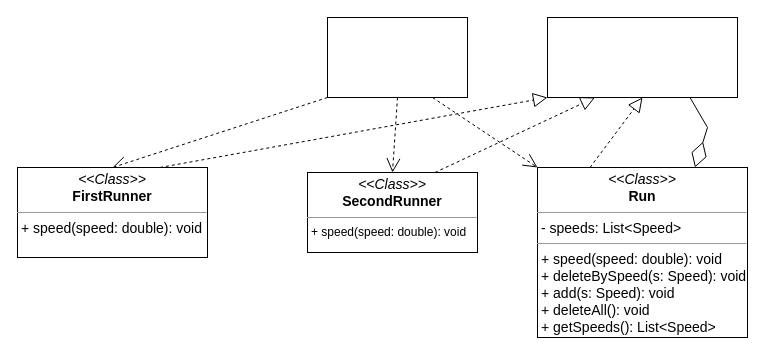
The diagram is 765 pixels wide and 355 high, and some of its shapes have lost their labels. Here are the shapes that lost their labels. From the top down, the centre of each, then its label:
At point 397,57: "<<Class>> Main + main(String[]): void".
At point 642,57: "<<Interface>> Speed + speed(speed: double): void".
